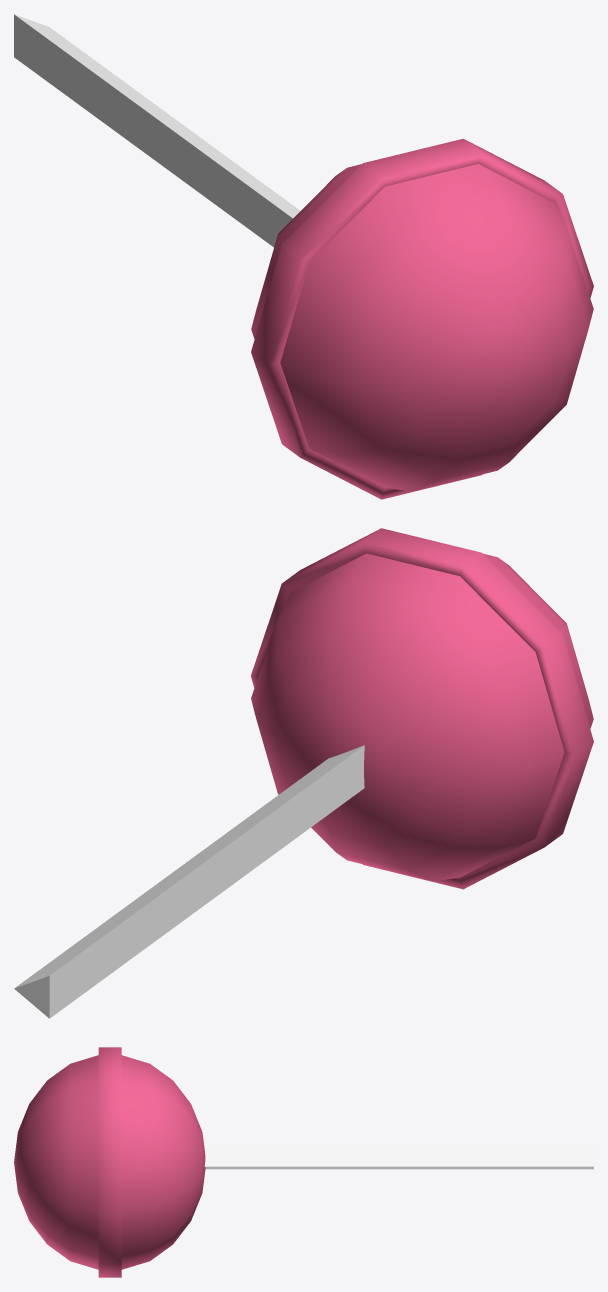
File: lollipop-poly.glb
3 views of the same model, one above another, from view 1: azimuth 30°, elevation 25°; view 2: azimuth 150°, elevation 25°; view 3: azimuth 270°, elevation 25° (orthographic). The views are drawn at different scales.
Visible parts, largest first — view 1: node-0; view 2: node-0; view 3: node-0.
Part boxes in pixels (<box>): node-0: <box>14,14,593,499</box>; node-0: <box>14,528,593,1018</box>; node-0: <box>14,1047,593,1277</box>.
Bounding box in the file's own units: 47.85 × 45.51 × 120.
